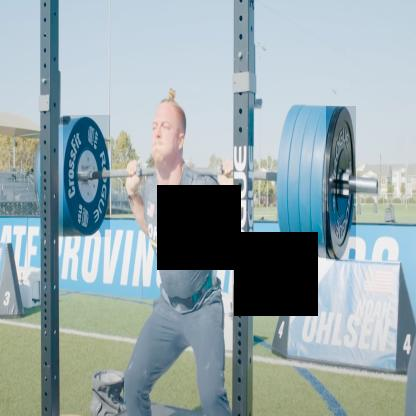barbell: (64, 116, 111, 238), (327, 107, 357, 262)
